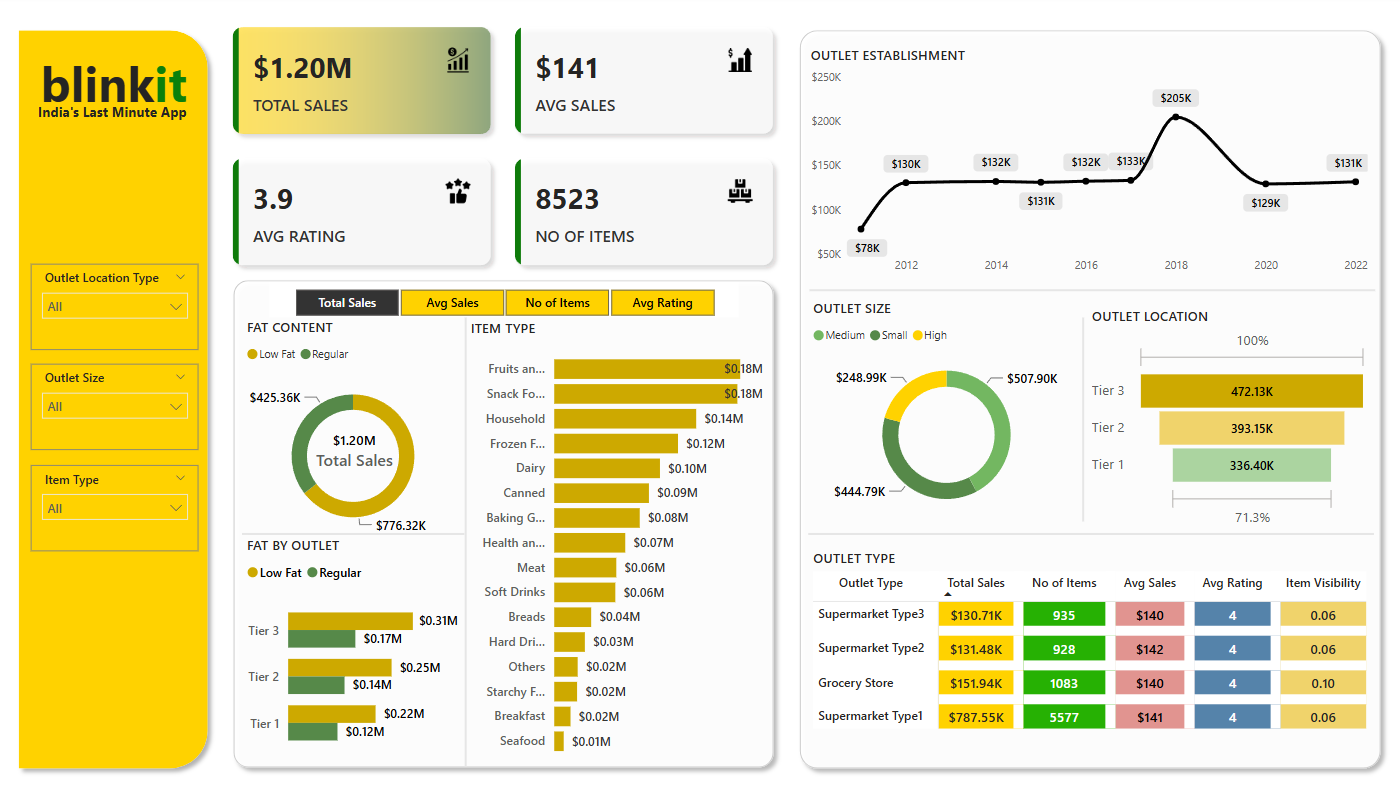

The page's visual inventory and layout, read from the dashboard file:
{"tool":"powerbi","page":{"name":"Page 1","canvas":[1400,800],"ordinal":0},"visuals":[{"type":"shape","box":[12,25.5,205.6,750.4],"z":0},{"type":"textbox","box":[33,49.5,165.1,84],"z":1000},{"type":"textbox","box":[30,102.1,169.6,31.5],"z":2000},{"type":"cardVisual","fields":{"Data":["BlinkIT Grocery Data.Total Sales","BlinkIT Grocery Data.Avg Sales","BlinkIT Grocery Data.Avg Rating","BlinkIT Grocery Data.No of Items"]},"box":[217.6,15,570.3,270.2],"z":3000},{"type":"shape","box":[225.1,274.7,553.8,501.3],"z":4000},{"type":"donutChart","title":"FAT CONTENT","fields":{"Y":["BlinkIT Grocery Data.Total Sales"],"Category":["BlinkIT Grocery Data.Item Fat Content"]},"box":[243.1,319.7,220.6,229.6],"z":5000},{"type":"slicer","fields":{"Values":["Metrics.Metrics"]},"box":[270.2,285.2,465.3,34.5],"z":6000},{"type":"cardVisual","fields":{"Data":["BlinkIT Grocery Data.Total Sales"]},"box":[289.7,414.2,129.1,75],"z":7000},{"type":"clusteredBarChart","title":"FAT BY OUTLET","fields":{"Y":["BlinkIT Grocery Data.Total Sales"],"Category":["BlinkIT Grocery Data.Outlet Location Type"],"Series":["BlinkIT Grocery Data.Item Fat Content"]},"box":[243.1,535.8,219.5,229.5],"z":8000},{"type":"shape","box":[243.1,508.8,220.6,52.5],"z":9000},{"type":"shape","box":[354.2,319.7,220.6,445.8],"z":10000},{"type":"barChart","title":"ITEM TYPE","fields":{"Y":["BlinkIT Grocery Data.Total Sales"],"Category":["BlinkIT Grocery Data.Item Type"]},"box":[465.3,321.2,300.2,444.3],"z":11000},{"type":"shape","box":[788,25.5,594.3,750.4],"z":12000},{"type":"lineChart","title":"OUTLET ESTABLISHMENT ","fields":{"Y":["BlinkIT Grocery Data.Total Sales"],"Category":["BlinkIT Grocery Data.Outlet Establishment Year"]},"box":[803,49.5,562.8,235.6],"z":13000},{"type":"shape","box":[806,267.2,561.3,52.5],"z":14000},{"type":"donutChart","title":"OUTLET SIZE","fields":{"Y":["BlinkIT Grocery Data.Total Sales"],"Category":["BlinkIT Grocery Data.Outlet Size"]},"box":[804.5,301.7,274.7,225.1],"z":15000},{"type":"shape","box":[968.1,319.7,220.6,202.6],"z":16000},{"type":"funnel","title":"OUTLET LOCATION","fields":{"Y":["Sum(BlinkIT Grocery Data.Sales)"],"Category":["BlinkIT Grocery Data.Outlet Location Type"]},"box":[1081.6,308.8,284,224.5],"z":17000},{"type":"shape","box":[804.5,508.8,561.3,52.5],"z":18000},{"type":"pivotTable","title":"OUTLET TYPE","fields":{"Rows":["BlinkIT Grocery Data.Outlet Type"],"Values":["BlinkIT Grocery Data.Total Sales","BlinkIT Grocery Data.No of Items","BlinkIT Grocery Data.Avg Sales","BlinkIT Grocery Data.Avg Rating","Avg(BlinkIT Grocery Data.Item Visibility)"]},"box":[804.5,549.3,562.8,192.1],"z":19000},{"type":"slicer","fields":{"Values":["BlinkIT Grocery Data.Outlet Location Type"]},"box":[33,267.2,166.6,85.5],"z":19001},{"type":"slicer","fields":{"Values":["BlinkIT Grocery Data.Outlet Size"]},"box":[33,366.2,166.6,85.5],"z":19002},{"type":"slicer","fields":{"Values":["BlinkIT Grocery Data.Item Type"]},"box":[33,466.8,166.6,85.5],"z":19003}]}

Visuals, with their boxes in screenshot pixels (x1, y1, x2, y2), scaled from the page's 1400x800 canvas onto the 1400x787 screenshot:
shape: (left=12, top=25, right=218, bottom=763)
textbox: (left=33, top=49, right=198, bottom=131)
textbox: (left=30, top=100, right=200, bottom=131)
cardVisual - BlinkIT Grocery Data.Total Sales x BlinkIT Grocery Data.Avg Sales: (left=218, top=15, right=788, bottom=281)
shape: (left=225, top=270, right=779, bottom=763)
"FAT CONTENT" donutChart: (left=243, top=315, right=464, bottom=540)
slicer - Metrics.Metrics: (left=270, top=281, right=736, bottom=315)
cardVisual - BlinkIT Grocery Data.Total Sales: (left=290, top=407, right=419, bottom=481)
"FAT BY OUTLET" clusteredBarChart: (left=243, top=527, right=463, bottom=753)
shape: (left=243, top=501, right=464, bottom=552)
shape: (left=354, top=315, right=575, bottom=753)
"ITEM TYPE" barChart: (left=465, top=316, right=766, bottom=753)
shape: (left=788, top=25, right=1382, bottom=763)
"OUTLET ESTABLISHMENT " lineChart: (left=803, top=49, right=1366, bottom=280)
shape: (left=806, top=263, right=1367, bottom=315)
"OUTLET SIZE" donutChart: (left=804, top=297, right=1079, bottom=518)
shape: (left=968, top=315, right=1189, bottom=514)
"OUTLET LOCATION" funnel: (left=1082, top=304, right=1366, bottom=525)
shape: (left=804, top=501, right=1366, bottom=552)
"OUTLET TYPE" pivotTable: (left=804, top=540, right=1367, bottom=729)
slicer - BlinkIT Grocery Data.Outlet Location Type: (left=33, top=263, right=200, bottom=347)
slicer - BlinkIT Grocery Data.Outlet Size: (left=33, top=360, right=200, bottom=444)
slicer - BlinkIT Grocery Data.Item Type: (left=33, top=459, right=200, bottom=543)
